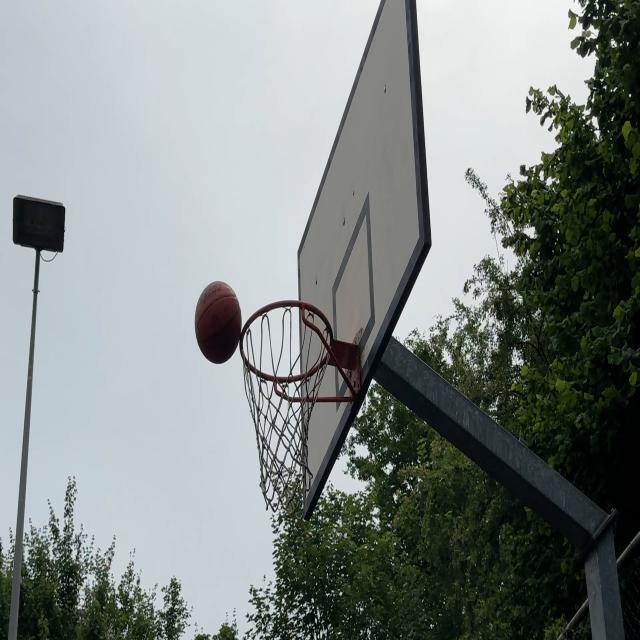rebound_hit: (195, 281, 245, 366)
